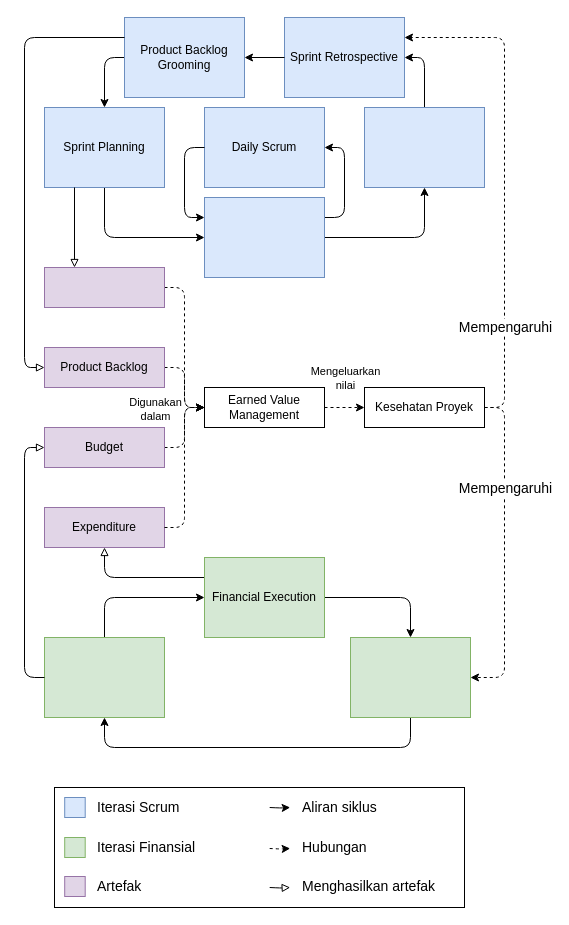
This 569x925 diagram has some shape labels left out. The centre of each missing label's shape, as x and y in pixels:
"Financial Monitoring and Evaluation" goes at pixel 410 677.
"Financial Planning" goes at pixel 104 677.
"Sprint Backlog" goes at pixel 104 287.
"Sprint Execution" goes at pixel 264 237.
"Sprint Review" goes at pixel 424 147.
